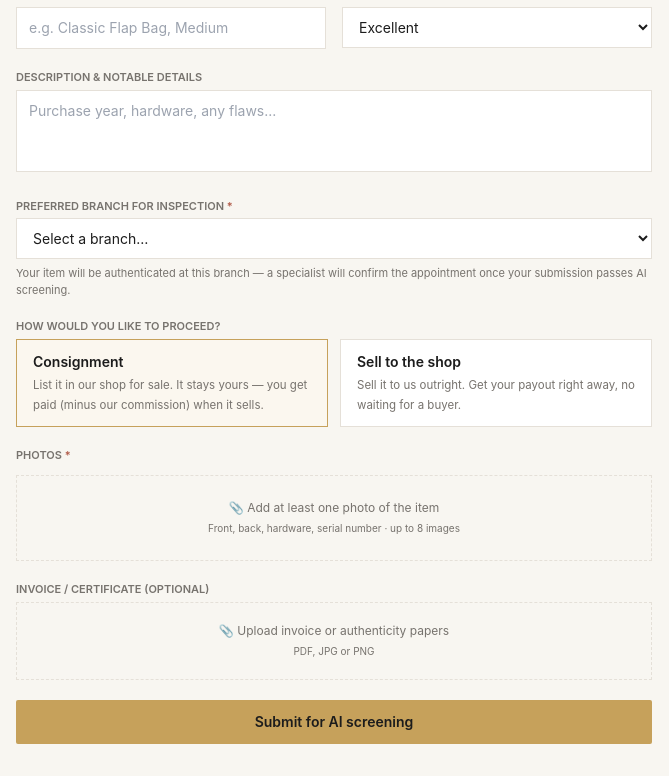
Scenario: ConsignPage › requires category, brand, branch, model and at least one photo
The image size is (669, 776).
(page scrolled)
Click the button "Submit for AI screening".
click(334, 722)  # box x1=16 y1=700 x2=652 y2=744
(page scrolled)
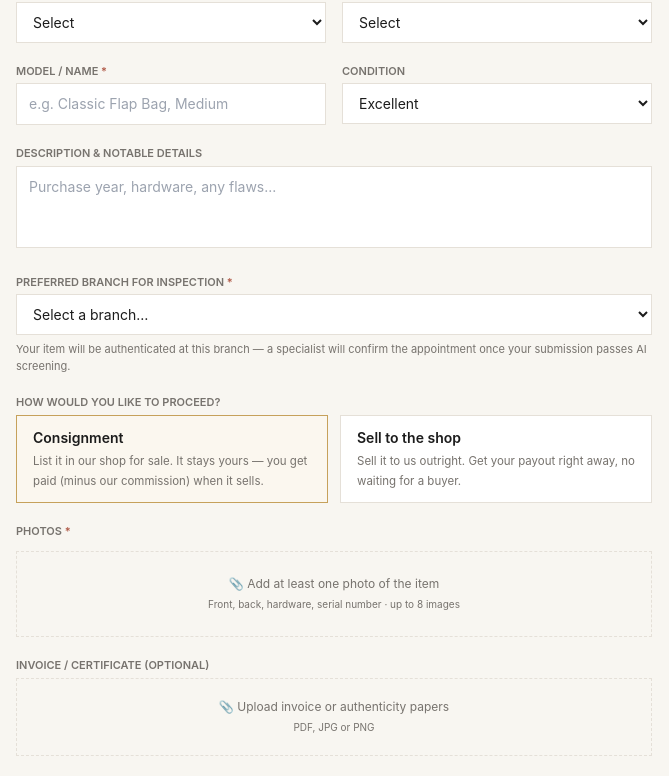
Submit the form named "Submit for AI screening"
(page scrolled)
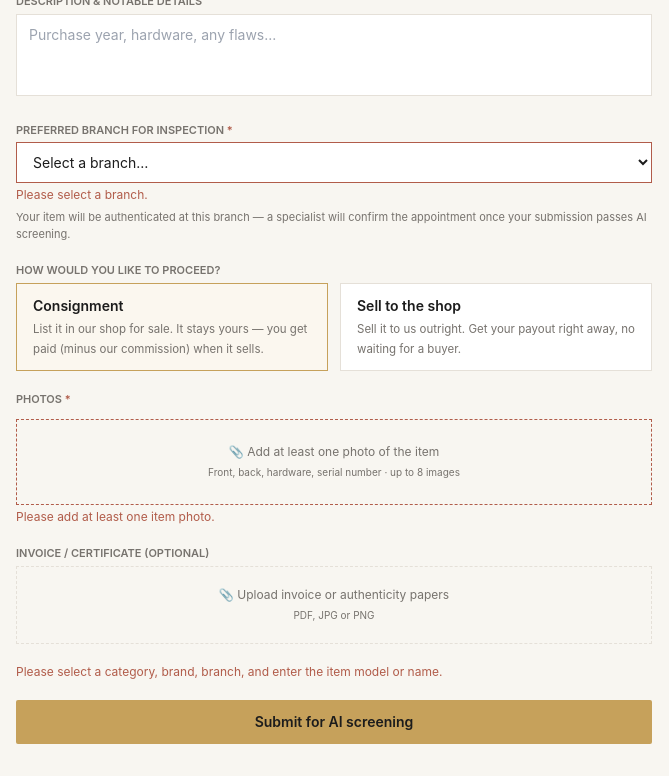
expect the text "Please select a category, brand, branch" is shown: met, box x1=16 y1=664 x2=442 y2=678
